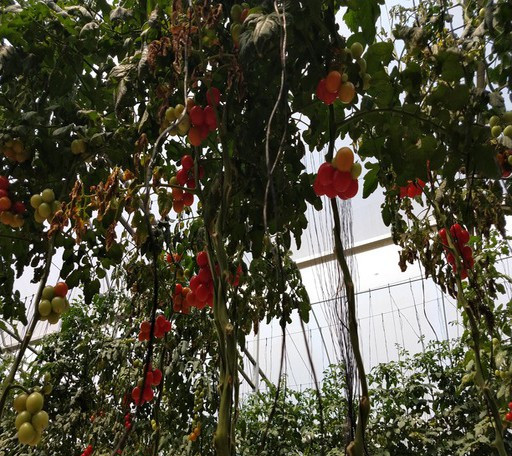green tomato bunch: (15, 392, 49, 446), (338, 42, 371, 91), (228, 5, 262, 47), (36, 282, 66, 324), (157, 104, 191, 137), (31, 188, 61, 223), (72, 136, 109, 163), (1, 137, 32, 163), (488, 115, 512, 143)
mixed tomato bunch: (1, 177, 26, 227), (318, 72, 355, 105)
red tomato bunch: (188, 250, 244, 309), (311, 146, 361, 199), (440, 223, 477, 280), (171, 156, 205, 214), (186, 84, 218, 144), (133, 364, 162, 407), (170, 282, 202, 315), (138, 314, 170, 343), (395, 171, 424, 199)
